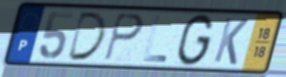5: (38, 10, 76, 62)
D: (64, 11, 109, 63)
G: (174, 13, 216, 69)
K: (211, 16, 251, 67)
L: (141, 14, 169, 64)
P: (102, 11, 145, 63)
